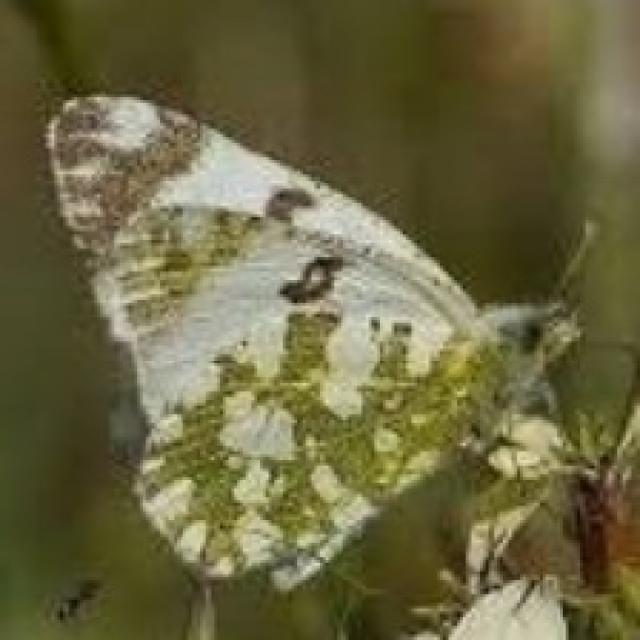butterfly: (37, 83, 614, 594)
